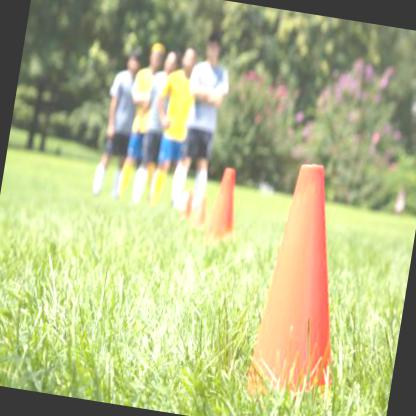cone: (242, 158, 364, 408), (204, 162, 245, 245), (192, 189, 212, 229), (181, 191, 195, 219)
